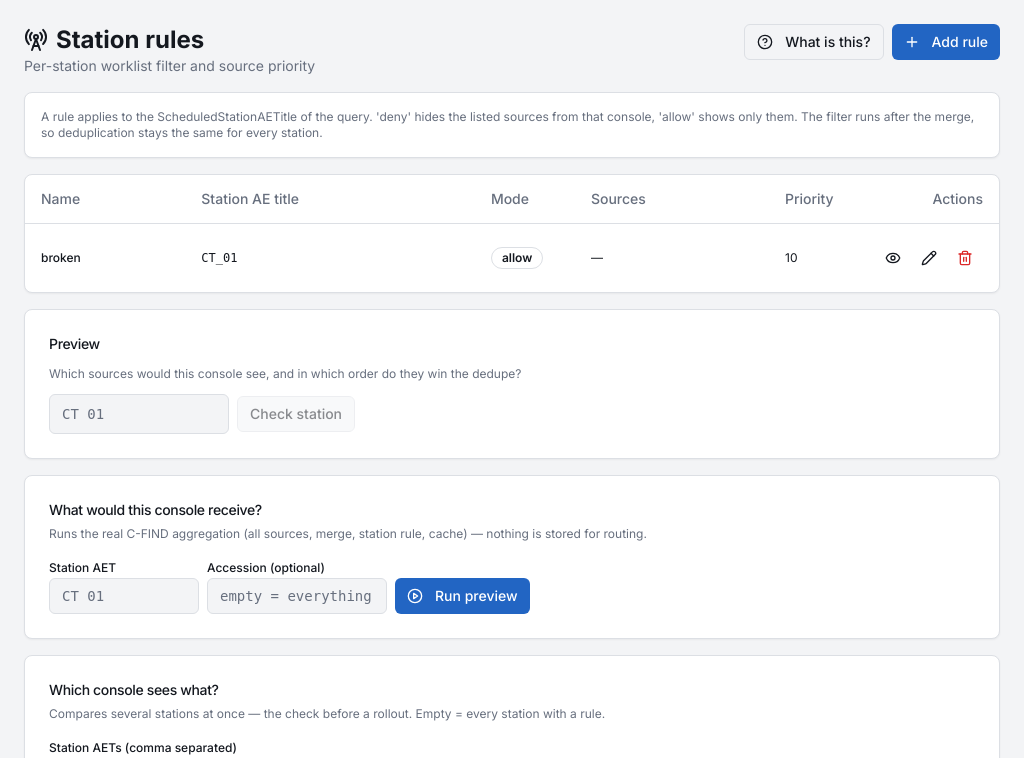
Test: StationsPage › warns when mode allow has no source (empty worklist)
expect the text "broken" is shown: met, box [41,250,81,264]
Click the button named "edit" at (929,258), box [911,240,947,276]
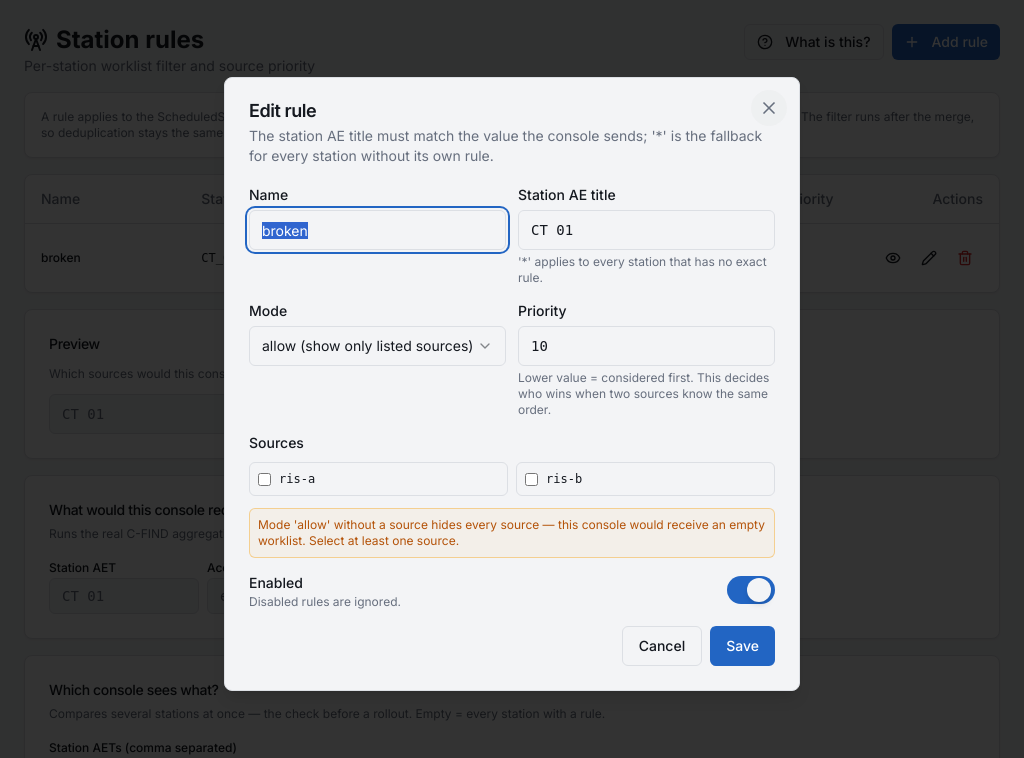
expect the message shows "hides every source": met, box [258,517,765,548]
